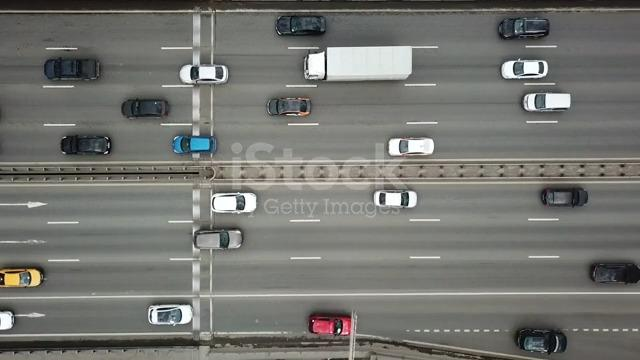Cars: (44, 58, 101, 82), (498, 17, 551, 40), (276, 15, 327, 37), (61, 134, 112, 156), (180, 64, 229, 85), (309, 314, 353, 337), (523, 92, 571, 113), (122, 98, 170, 119), (501, 59, 549, 80), (542, 187, 589, 208), (388, 137, 435, 157), (173, 135, 217, 156), (1, 267, 44, 288), (267, 97, 312, 117), (373, 189, 418, 209)
